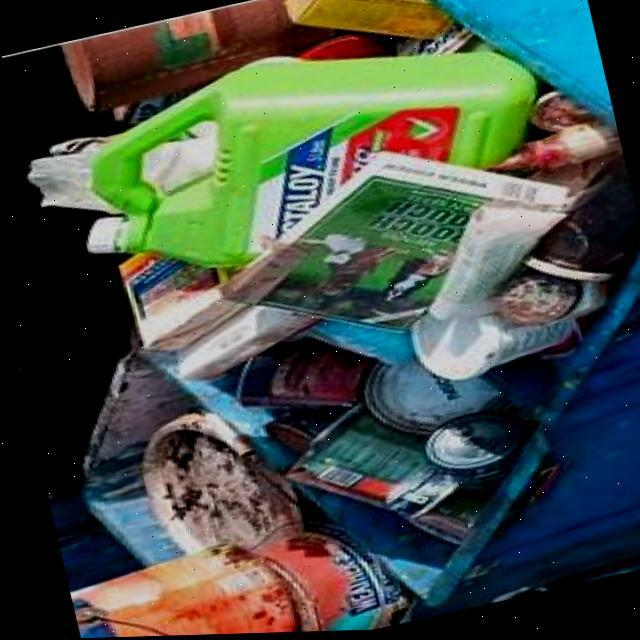Garbage: (27, 0, 639, 544), (65, 414, 401, 639)
Metal: (61, 0, 329, 112), (68, 547, 293, 639), (281, 408, 455, 520), (245, 525, 406, 634), (360, 364, 505, 436), (233, 343, 371, 409), (421, 416, 520, 491), (395, 481, 493, 547), (304, 322, 413, 368), (296, 36, 390, 63)
Plastic: (489, 95, 620, 174), (304, 322, 413, 368), (393, 29, 490, 59)
Plastic_Container: (86, 55, 532, 270), (138, 414, 299, 554), (522, 162, 640, 285), (408, 304, 572, 384), (489, 275, 609, 329)
